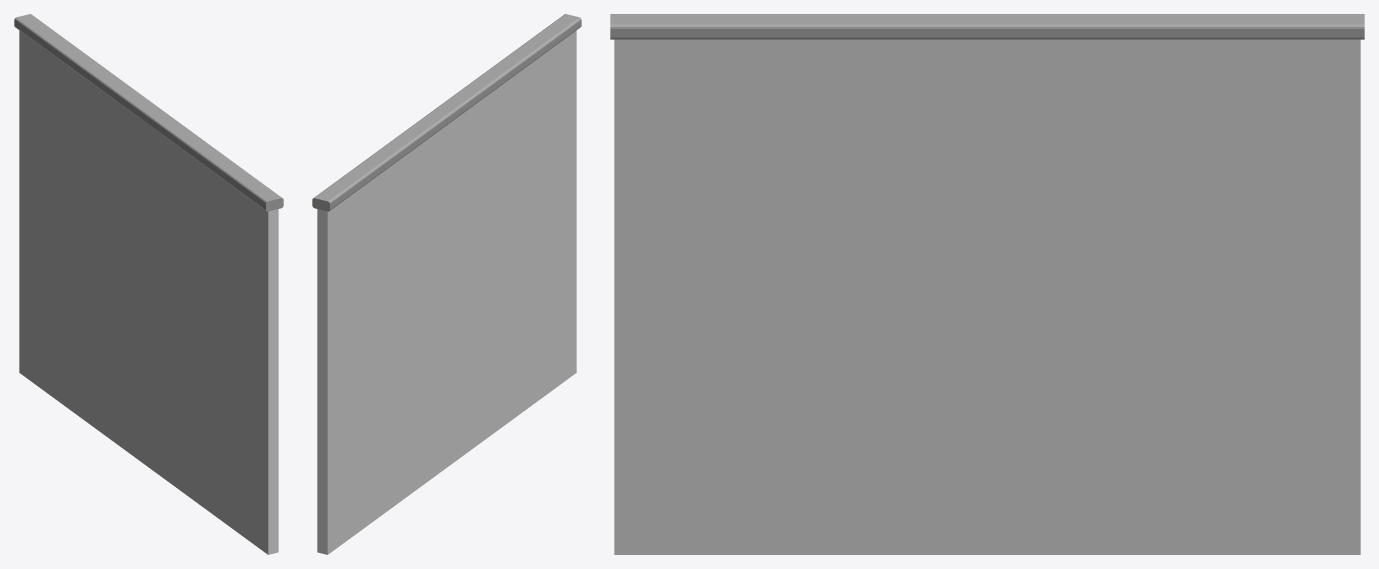
Rendered from SM_GlassBarrier.fbx.
The picture shows the model from 3 angles, left to right: view 1: azimuth 30°, elevation 25°; view 2: azimuth 150°, elevation 25°; view 3: azimuth 270°, elevation 25°; orthographic projection. The views are drawn at different scales.
Parts seen in each view (by area): view 1: SM_Patio.001; view 2: SM_Patio.001; view 3: SM_Patio.001.
Part boxes in pixels (x1=…): SM_Patio.001: x1=14, y1=14, x2=283, y2=554; SM_Patio.001: x1=312, y1=14, x2=581, y2=554; SM_Patio.001: x1=610, y1=14, x2=1364, y2=554.
Size of the model in its own units: 0.088 by 1.69 by 2.18.
